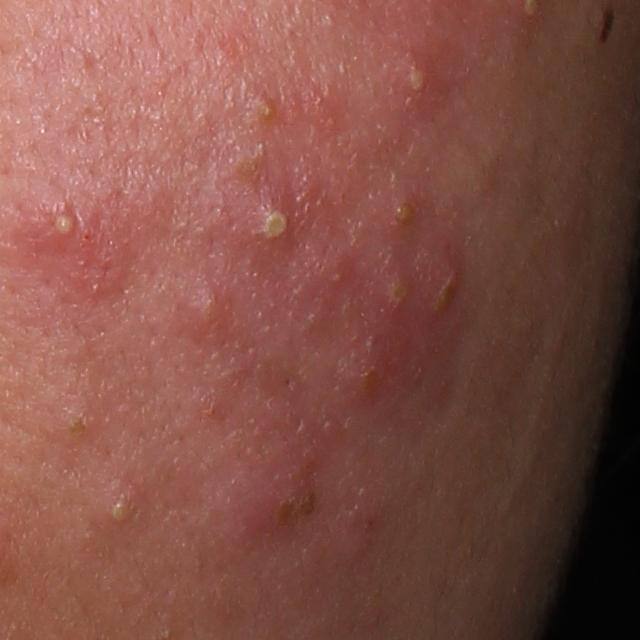nevus: (597, 5, 617, 47)
pustule: (373, 42, 439, 113), (250, 193, 305, 254), (371, 263, 419, 317), (377, 193, 422, 240), (100, 486, 146, 526)
